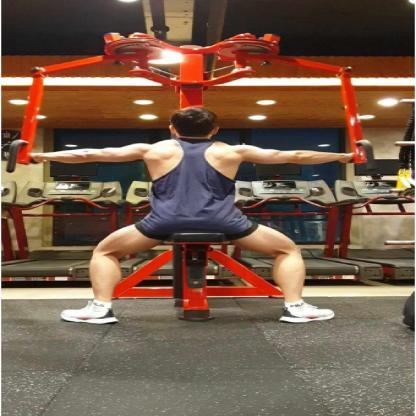chest fly machine: (5, 26, 386, 341)
